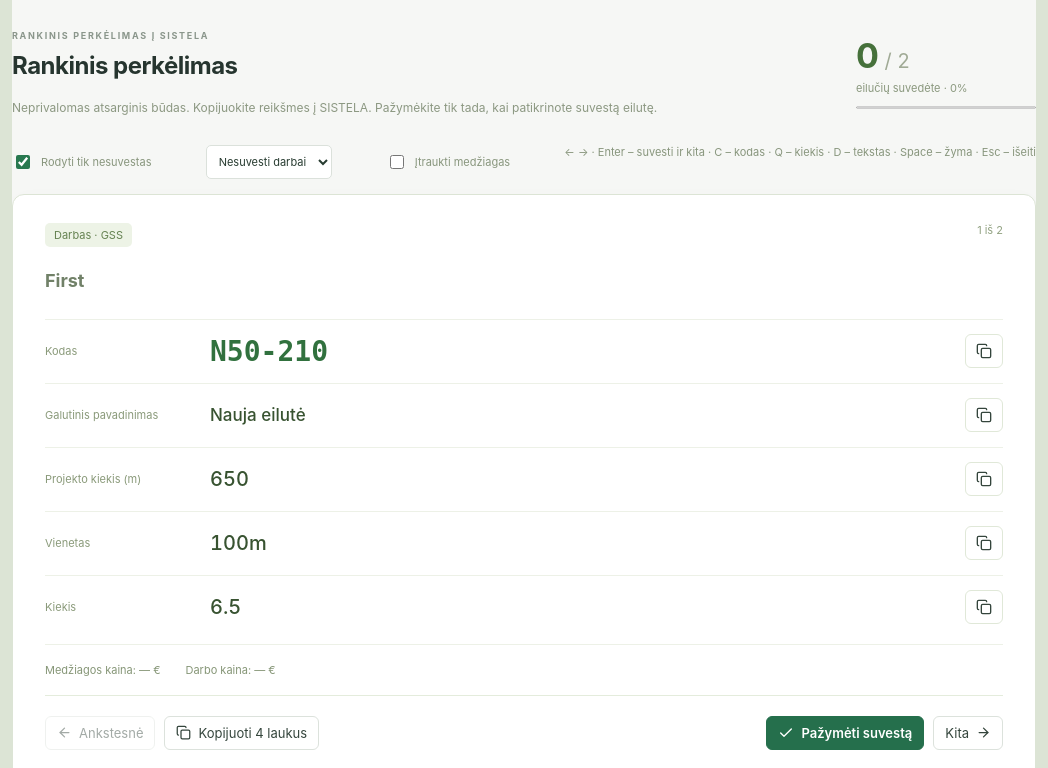
Test: Estimator handoff › navigates and filters reviewed works without changing entered flags
The width and height of the screenshot is (1048, 768).
Press ArrowRight
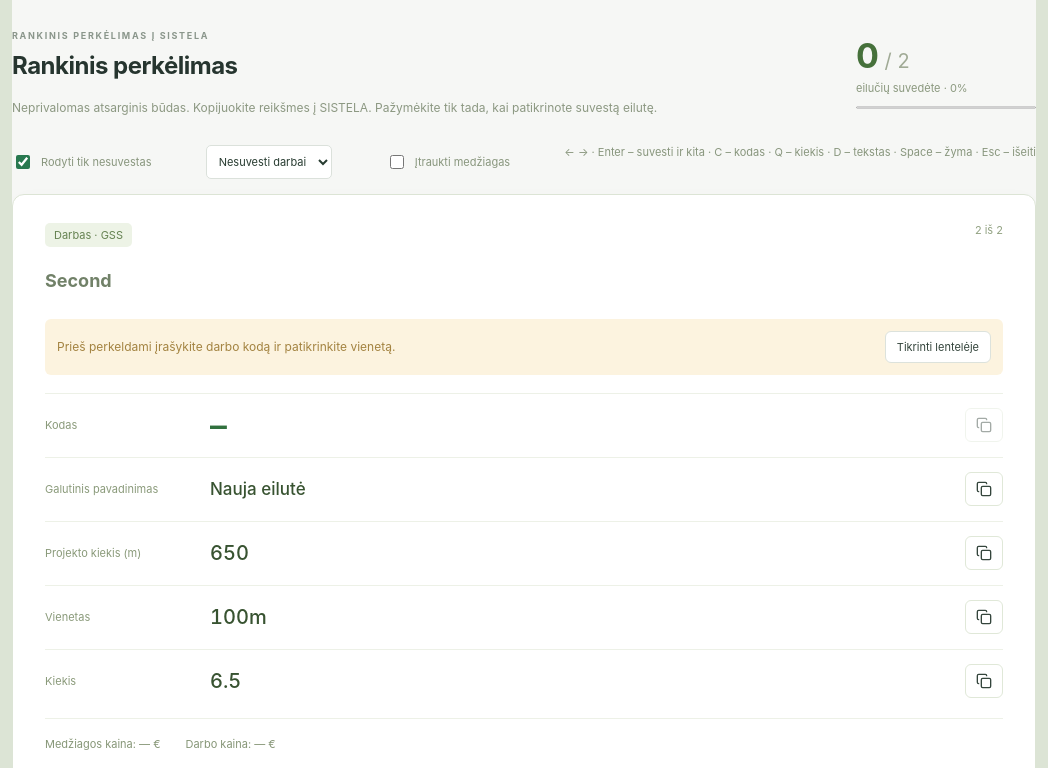
expect the heading "Second" is shown: met, box [45,270,112,291]
Press ArrowLeft
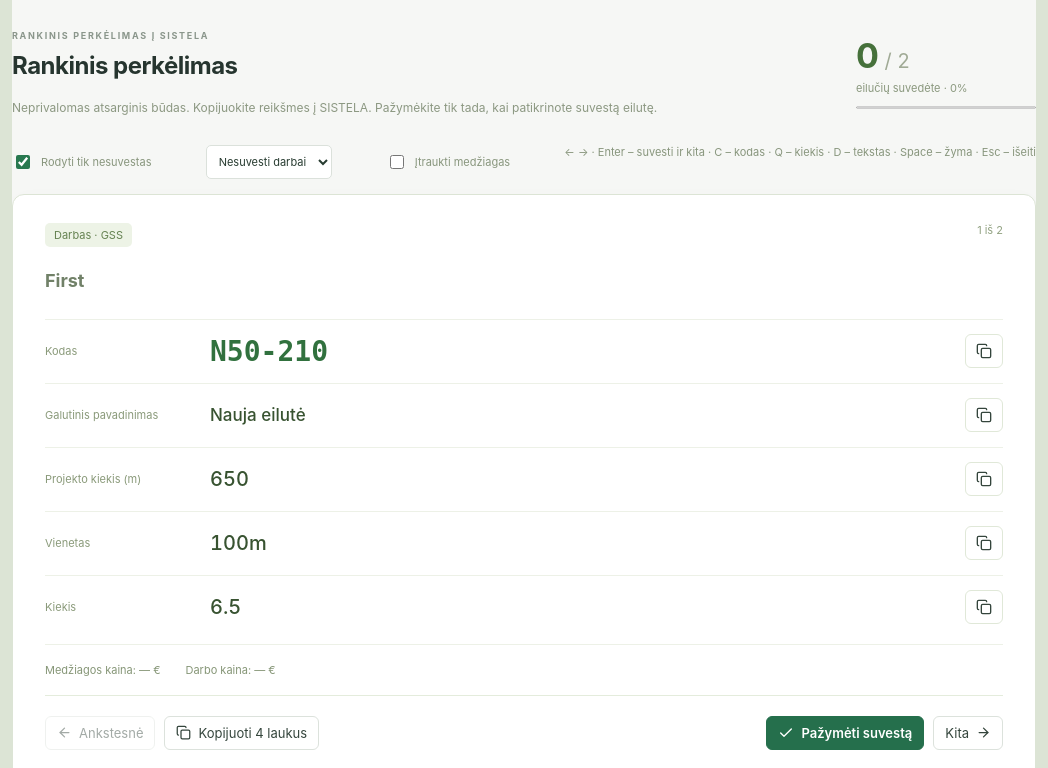
expect the heading "First" is shown: met, box [45,270,84,291]
Select "Reikia peržiūros" in the dropdown named "Suvedimo filtras". click: [269, 162]
box: [206,145,332,179]
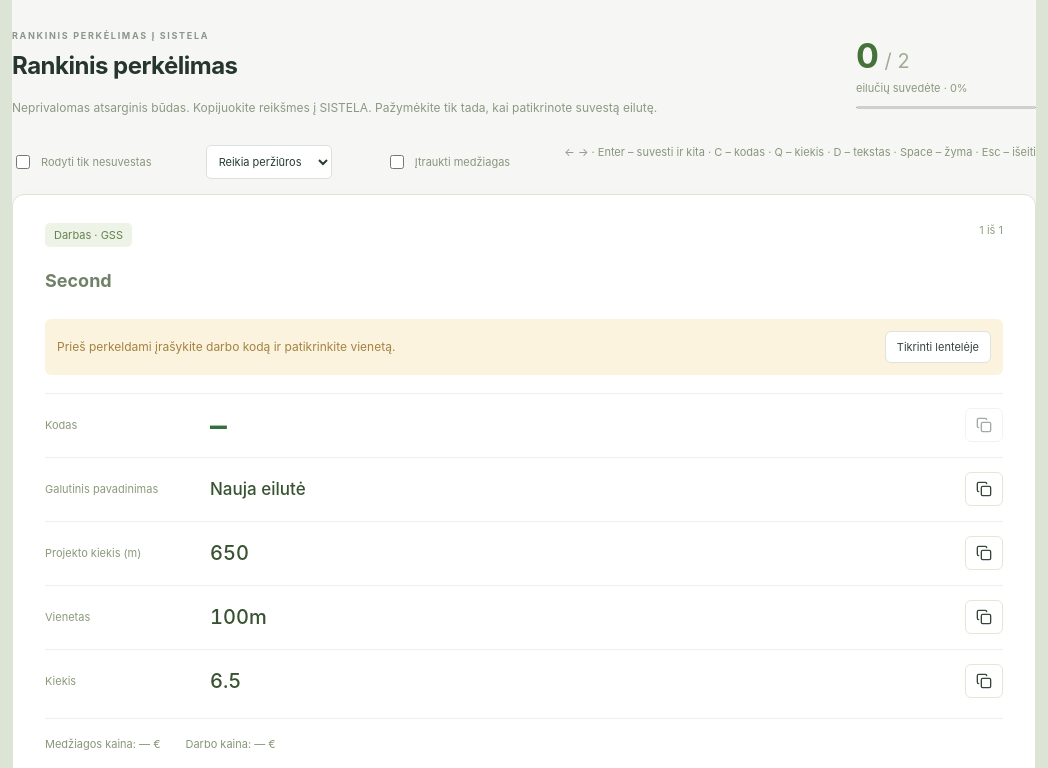
expect the heading "Second" is shown: met, box [45,270,112,291]
Select "Tik patvirtinti" in the dropdown named "Suvedimo filtras". click: [269, 162]
box: [206,145,332,179]
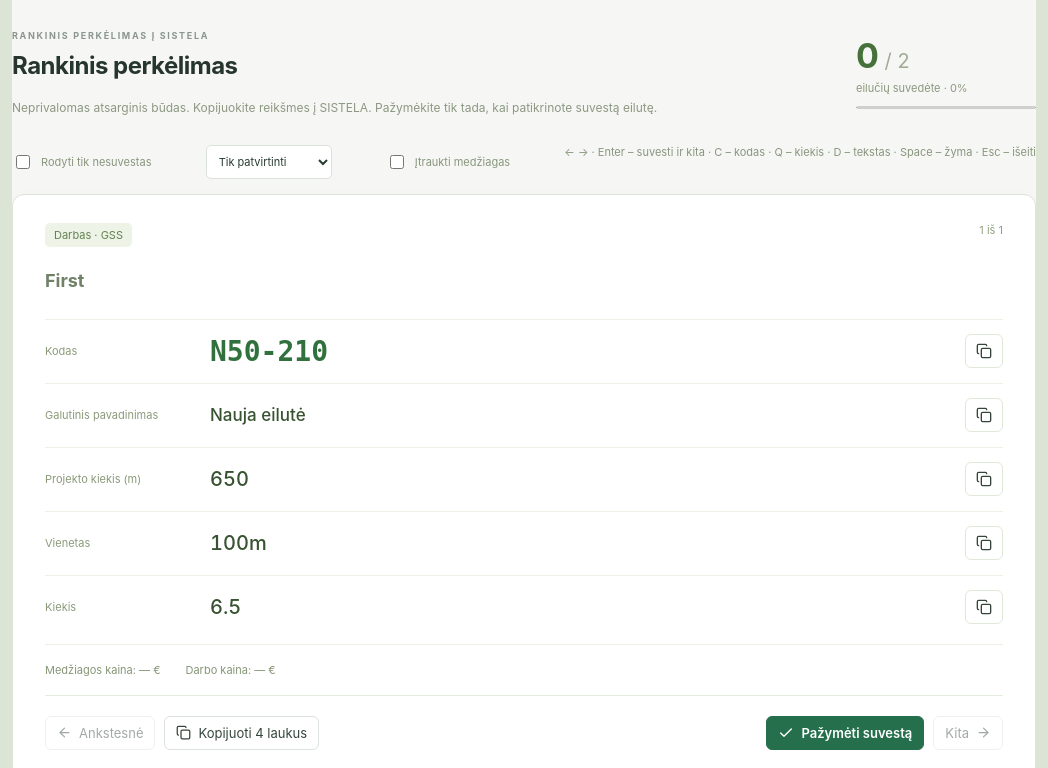
expect the heading "First" is shown: met, box [45,270,84,291]
